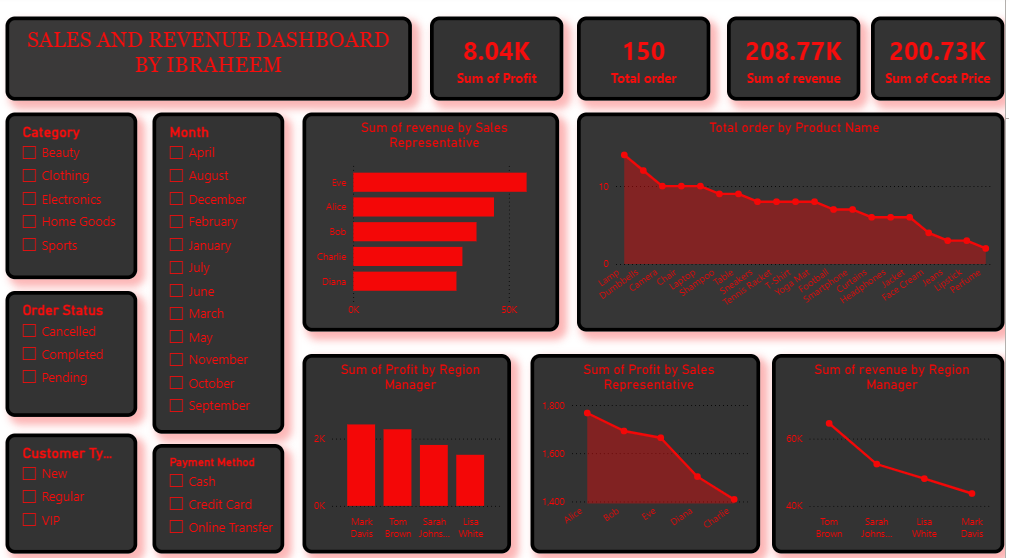

This screenshot's page, from the dashboard's own definition file:
{"tool":"powerbi","page":{"name":"Page 1","canvas":[1280,720],"ordinal":0},"visuals":[{"type":"textbox","box":[20.8,28.3,512.1,105.8],"z":0},{"type":"slicer","fields":{"Values":["Raw Data.Category"]},"box":[20.8,149.3,166.3,209.8],"z":1000},{"type":"slicer","fields":{"Values":["Raw Data.Month"]},"box":[206,149.3,166.3,404.4],"z":2000},{"type":"slicer","fields":{"Values":["Raw Data.Order Status"]},"box":[20.8,374.2,166.3,158.7],"z":3000},{"type":"slicer","fields":{"Values":["Raw Data.Customer Type"]},"box":[20.8,553.7,166.3,151.2],"z":4000},{"type":"slicer","fields":{"Values":["Raw Data.Payment Method"]},"box":[206,566.9,166.3,138],"z":5000},{"type":"card","fields":{"Values":["Sum(Raw Data.revenue)"]},"box":[929.8,28.3,168.2,105.8],"z":6000},{"type":"card","fields":{"Values":["Raw Data.Total order"]},"box":[740.8,28.3,168.2,105.8],"z":7000},{"type":"card","fields":{"Values":["Sum(Raw Data.Cost Price)"]},"box":[1111.2,28.3,168.2,105.8],"z":8000},{"type":"card","fields":{"Values":["Sum(Raw Data.Profit)"]},"box":[555.6,28.3,168.2,105.8],"z":9000},{"type":"barChart","fields":{"Category":["Raw Data.Sales Representative"],"Y":["Sum(Raw Data.revenue)"]},"box":[395,149.3,323.2,275.9],"z":9001},{"type":"stackedAreaChart","fields":{"Category":["Raw Data.Sales Representative"],"Y":["Sum(Raw Data.Profit)"]},"box":[682.2,453.5,289.1,251.3],"z":9002},{"type":"clusteredColumnChart","fields":{"Category":["Raw Data.Region Manager"],"Y":["Sum(Raw Data.Profit)"]},"box":[395,453.5,262.7,251.3],"z":9003},{"type":"lineChart","fields":{"Category":["Raw Data.Region Manager"],"Y":["Sum(Raw Data.revenue)"]},"box":[986.5,453.5,292.9,251.3],"z":9004},{"type":"areaChart","fields":{"Category":["Raw Data.Product Name"],"Y":["Raw Data.Total order"]},"box":[740.8,149.3,538.6,275.9],"z":9005}]}

Visuals, with their boxes in screenshot pixels (x1, y1, x2, y2), scaled from the page's 1280x720 canvas onto the 1009x558 screenshot:
textbox: rect(16, 22, 420, 104)
slicer - Raw Data.Category: rect(16, 116, 147, 278)
slicer - Raw Data.Month: rect(162, 116, 293, 429)
slicer - Raw Data.Order Status: rect(16, 290, 147, 413)
slicer - Raw Data.Customer Type: rect(16, 429, 147, 546)
slicer - Raw Data.Payment Method: rect(162, 439, 293, 546)
card - Sum(Raw Data.revenue): rect(733, 22, 866, 104)
card - Raw Data.Total order: rect(584, 22, 717, 104)
card - Sum(Raw Data.Cost Price): rect(876, 22, 1008, 104)
card - Sum(Raw Data.Profit): rect(438, 22, 571, 104)
barChart - Raw Data.Sales Representative x Sum(Raw Data.revenue): rect(311, 116, 566, 330)
stackedAreaChart - Raw Data.Sales Representative x Sum(Raw Data.Profit): rect(538, 351, 766, 546)
clusteredColumnChart - Raw Data.Region Manager x Sum(Raw Data.Profit): rect(311, 351, 518, 546)
lineChart - Raw Data.Region Manager x Sum(Raw Data.revenue): rect(778, 351, 1008, 546)
areaChart - Raw Data.Product Name x Raw Data.Total order: rect(584, 116, 1008, 330)
